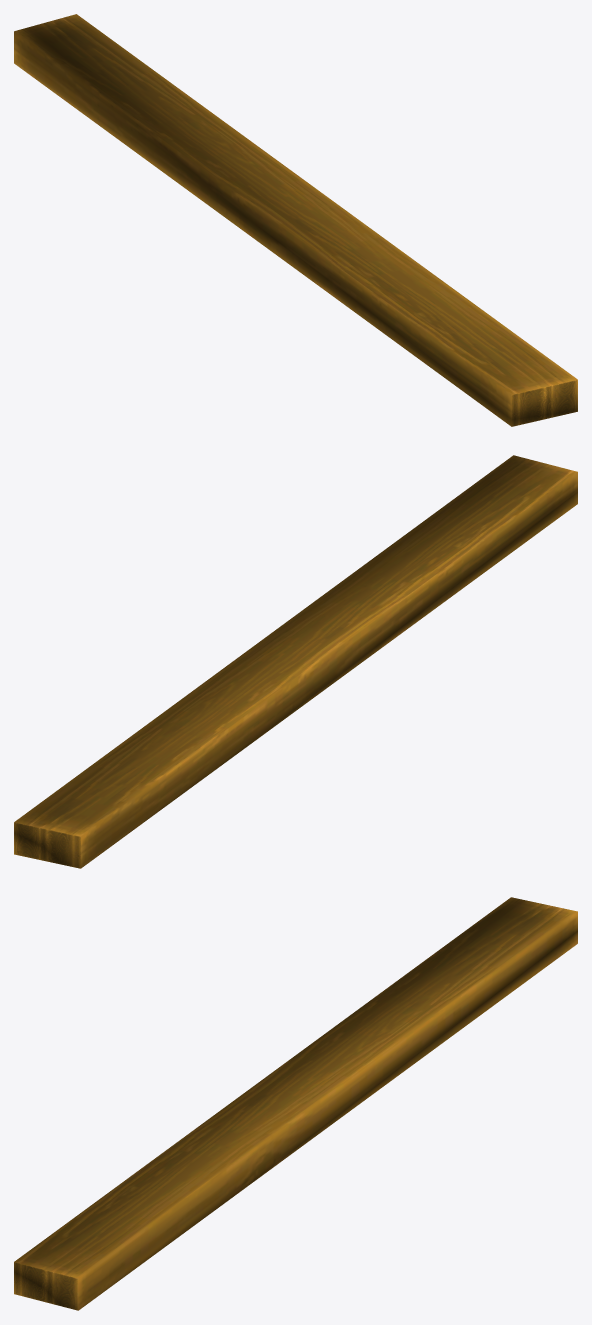
File: INST_HTOWN_BOARDA.fbx
3 views of the same model, one above another, from view 1: azimuth 30°, elevation 25°; view 2: azimuth 150°, elevation 25°; view 3: azimuth 330°, elevation 25° (orthographic).
Parts seen in each view (by area): view 1: INST_HTOWN_BOARDA; view 2: INST_HTOWN_BOARDA; view 3: INST_HTOWN_BOARDA.
Part boxes in pixels (bbox=[...]): INST_HTOWN_BOARDA: bbox=[14, 14, 577, 426]; INST_HTOWN_BOARDA: bbox=[14, 455, 577, 868]; INST_HTOWN_BOARDA: bbox=[14, 897, 577, 1310].
Bounding box in the file's own units: 1532 × 711 × 20060.
Materials: 1 (1 with a texture image).
